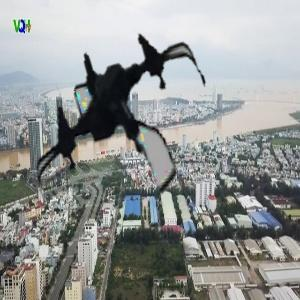drone: (23, 22, 215, 214)
